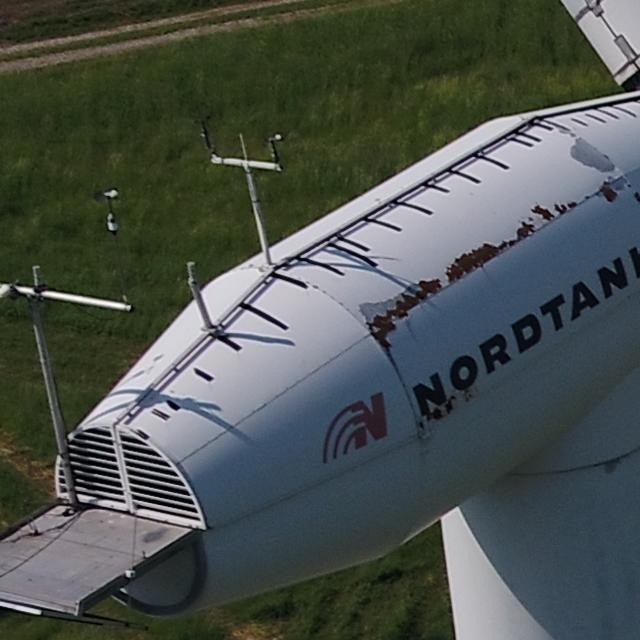damage: (359, 273, 444, 334), (444, 233, 511, 289), (369, 332, 411, 396), (567, 134, 618, 173), (530, 198, 579, 224), (596, 181, 620, 205), (513, 219, 536, 241), (426, 405, 443, 421), (446, 393, 457, 417)
